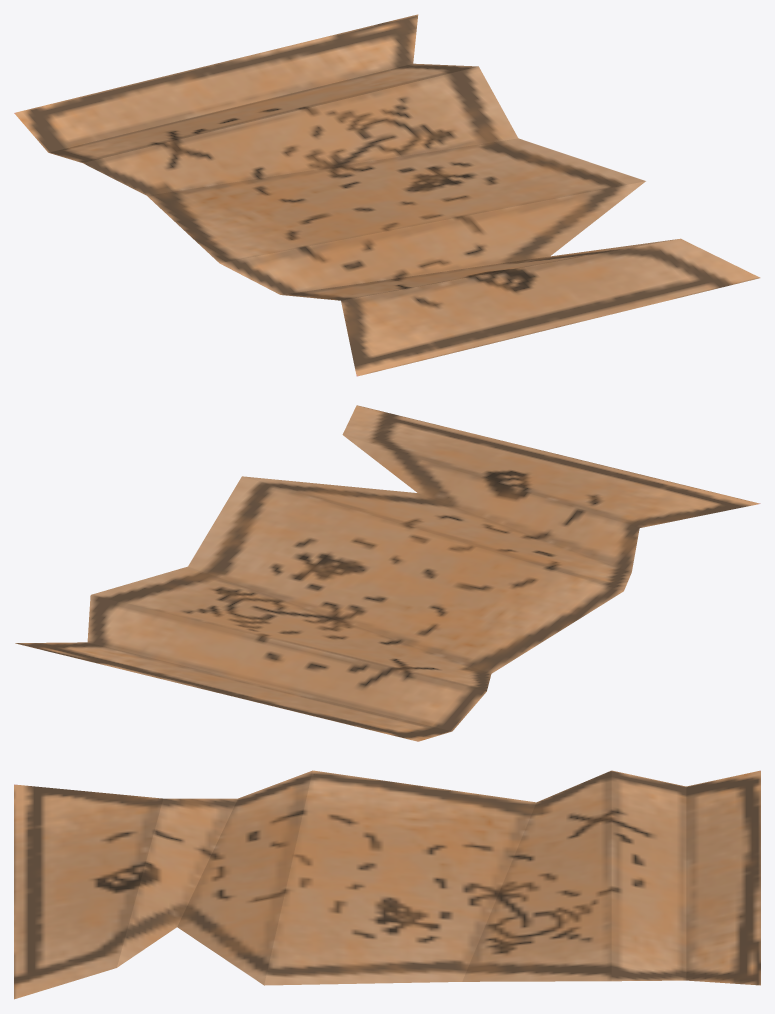
Rendered from treasure_map.glb.
3 renders of one model, top to bottom at view 1: azimuth 30°, elevation 25°; view 2: azimuth 150°, elevation 25°; view 3: azimuth 270°, elevation 25°, orthographic. The views are drawn at different scales.
Parts seen in each view (by area): view 1: Plane; view 2: Plane; view 3: Plane.
Boxes of the visible parts, x1,y1,x2,y2 form: Plane: (14, 14, 760, 376); Plane: (15, 405, 760, 741); Plane: (14, 770, 760, 999).
Size of the model in its own units: 2 by 0.0695 by 2.94.
Materials: 1 (1 with a texture image).
